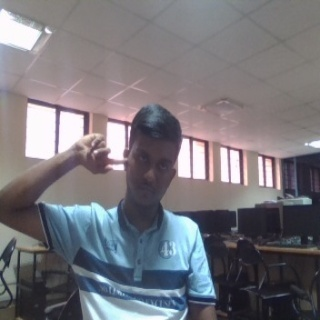Deaf: (71, 131, 128, 177)
Face: (124, 102, 183, 209)
